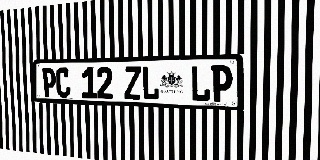1: (81, 67, 97, 99)
2: (97, 67, 113, 99)
C: (56, 67, 70, 98)
L: (190, 65, 211, 102), (142, 66, 160, 100)
P: (211, 65, 233, 102), (42, 68, 56, 97)
Z: (124, 66, 141, 100)
